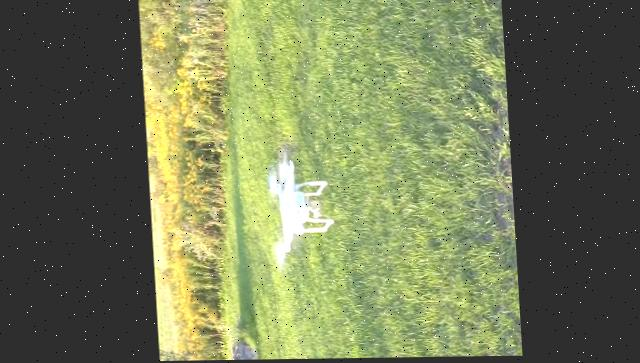drone: (261, 151, 334, 262)
